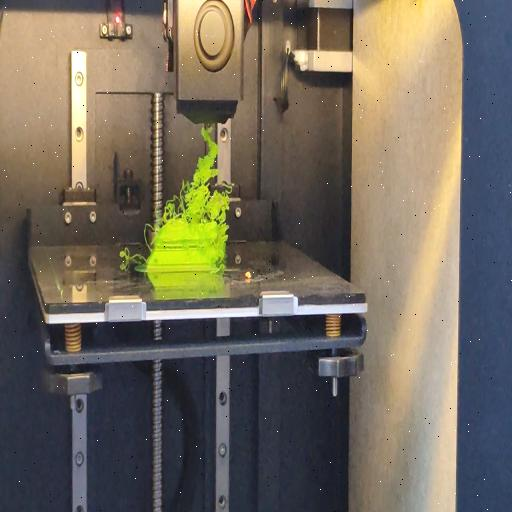spaghetti: (161, 122, 231, 230), (216, 226, 230, 274), (116, 246, 144, 264), (142, 220, 156, 254)
